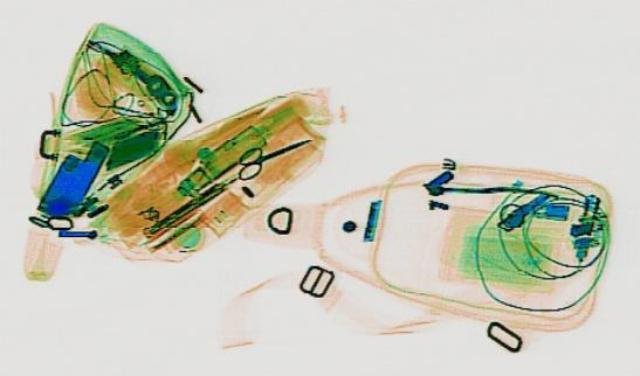Scissors: (216, 128, 322, 179)
